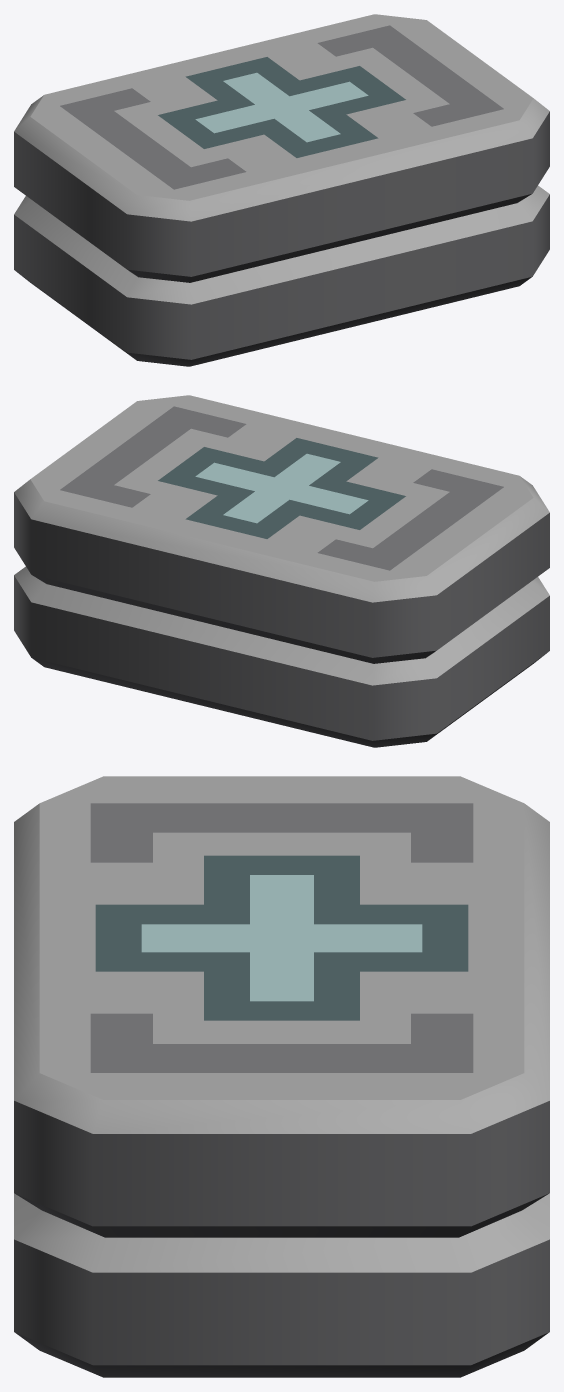
Rendered from item_medicine_ultratech_b.obj.
The picture shows the model from 3 angles, top to bottom: view 1: azimuth 30°, elevation 25°; view 2: azimuth 150°, elevation 25°; view 3: azimuth 270°, elevation 25°; orthographic projection. The views are drawn at different scales.
Parts seen in each view (by area): view 1: item_medicine_ultratech_b; view 2: item_medicine_ultratech_b; view 3: item_medicine_ultratech_b.
Part boxes in pixels (left/top/right/bottom): item_medicine_ultratech_b: left=14, top=14, right=549, bottom=366; item_medicine_ultratech_b: left=14, top=395, right=549, bottom=747; item_medicine_ultratech_b: left=14, top=776, right=549, bottom=1377.
Size of the model in its own units: 0.6976 by 0.2616 by 0.4578.
